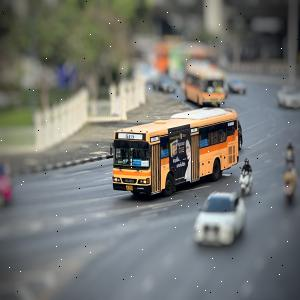BMTA-bus: (110, 107, 242, 199)
Bus Line Number: (122, 132, 138, 140)
Bus Side Number: (136, 186, 144, 190)
Destination Sign: (132, 159, 142, 166)
